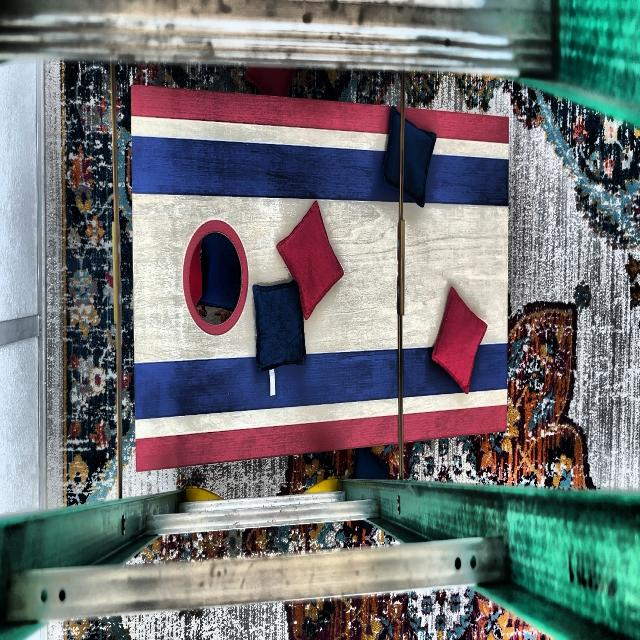blue-bean-bag: (382, 107, 436, 207), (255, 280, 307, 370), (352, 448, 390, 479)
blue-bean-bag-in-hole: (197, 233, 241, 309)
board: (134, 118, 506, 432)
hole: (182, 220, 248, 336)
red-bean-bag: (276, 201, 343, 317), (431, 290, 487, 394), (243, 66, 295, 96)
red-bean-bag-in-hole: (190, 247, 201, 305)
